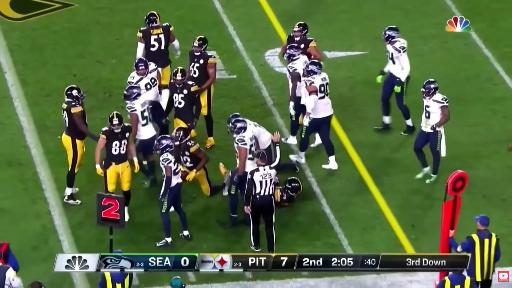Helmet: (64, 86, 84, 105), (154, 135, 174, 154), (172, 127, 190, 145), (283, 178, 302, 195), (123, 85, 142, 102), (422, 79, 438, 99), (229, 118, 247, 135), (108, 112, 123, 132), (285, 44, 301, 62), (383, 26, 400, 42), (305, 60, 322, 76), (293, 22, 308, 40), (134, 58, 149, 76), (193, 36, 208, 54), (173, 67, 186, 85), (145, 12, 159, 26), (227, 113, 241, 126)
Jersey: (138, 24, 173, 68), (166, 82, 200, 123), (100, 124, 132, 166), (305, 73, 333, 118), (127, 62, 159, 101), (126, 98, 156, 139), (384, 39, 410, 82), (189, 50, 217, 86), (62, 101, 87, 140), (422, 94, 448, 131), (234, 129, 256, 171), (287, 55, 309, 96), (246, 119, 272, 149), (160, 153, 182, 186), (181, 139, 201, 170), (287, 34, 316, 53), (275, 187, 294, 207)
Player: (290, 61, 337, 169), (95, 112, 139, 221), (375, 26, 415, 135), (62, 86, 98, 204), (137, 12, 180, 106), (155, 135, 191, 246), (414, 79, 450, 183), (172, 127, 221, 196), (124, 86, 156, 187), (189, 36, 217, 148), (228, 119, 257, 227), (127, 58, 168, 134), (283, 44, 309, 144), (166, 67, 201, 137), (228, 113, 276, 164), (282, 22, 321, 60), (275, 178, 302, 207), (220, 164, 235, 189)
